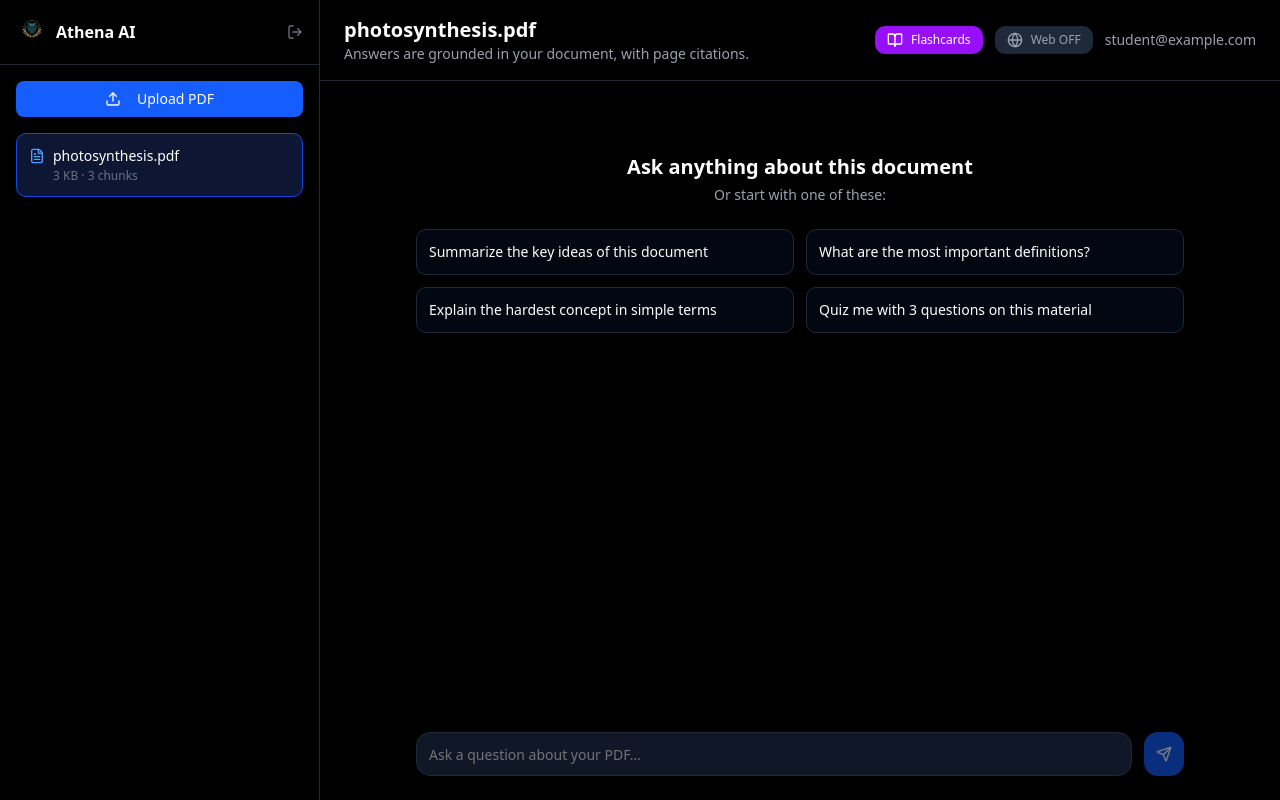
Test: ChatPage › includes web search when toggled on
Click the button titled "Complement answers with web search results".
click(1044, 40)  # box [995,26,1093,54]
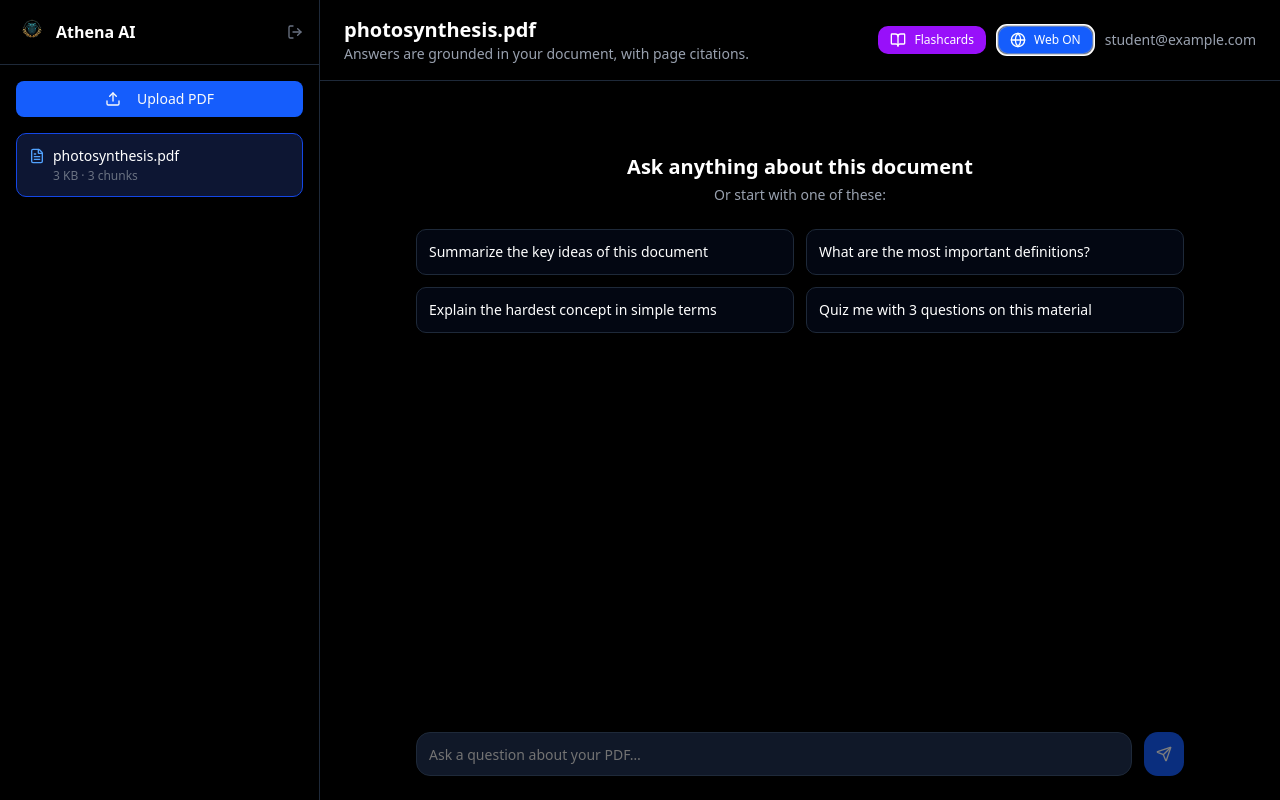
Type "q" into the field with placeholder "Ask a question about your PDF…".
click(774, 754); type("q")  # box [416,732,1132,776]
Then press Enter
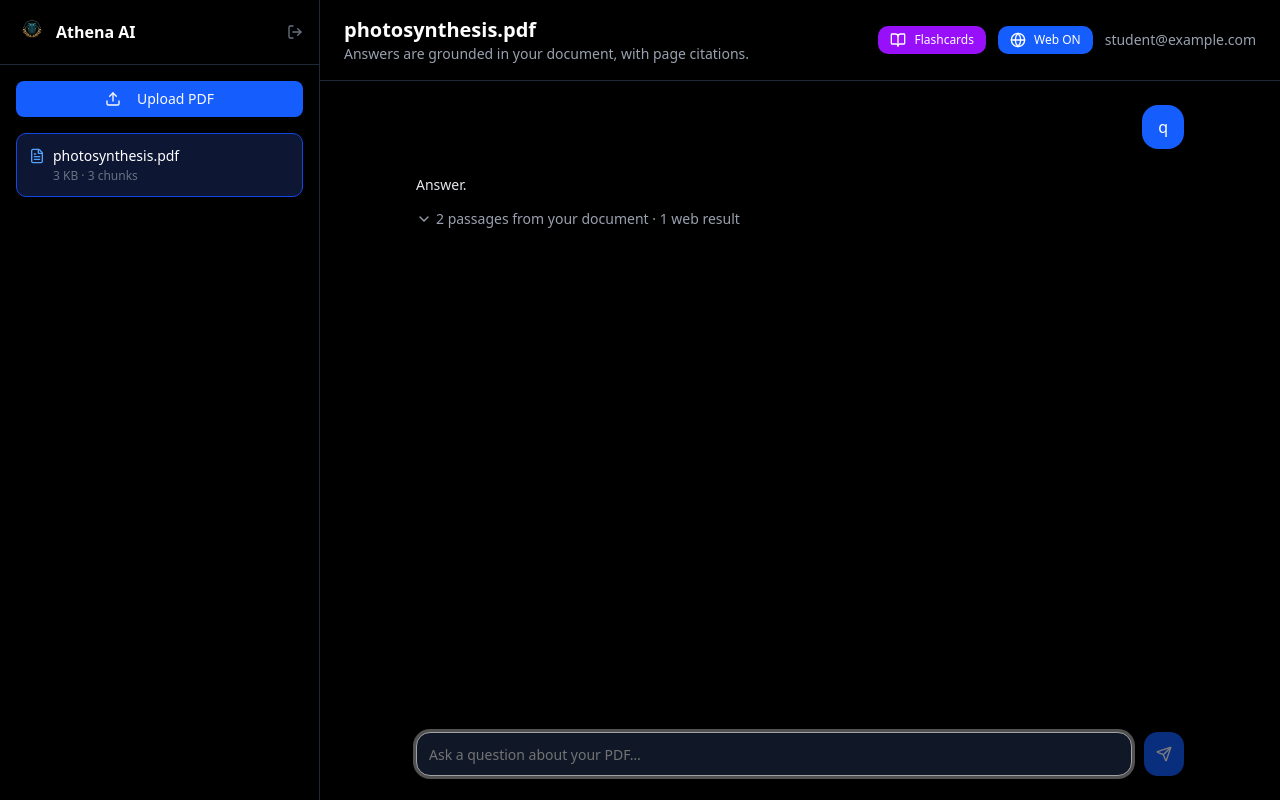
Expected: the button "2 passages from your document · 1 web result" is shown, [416,209,740,229]
